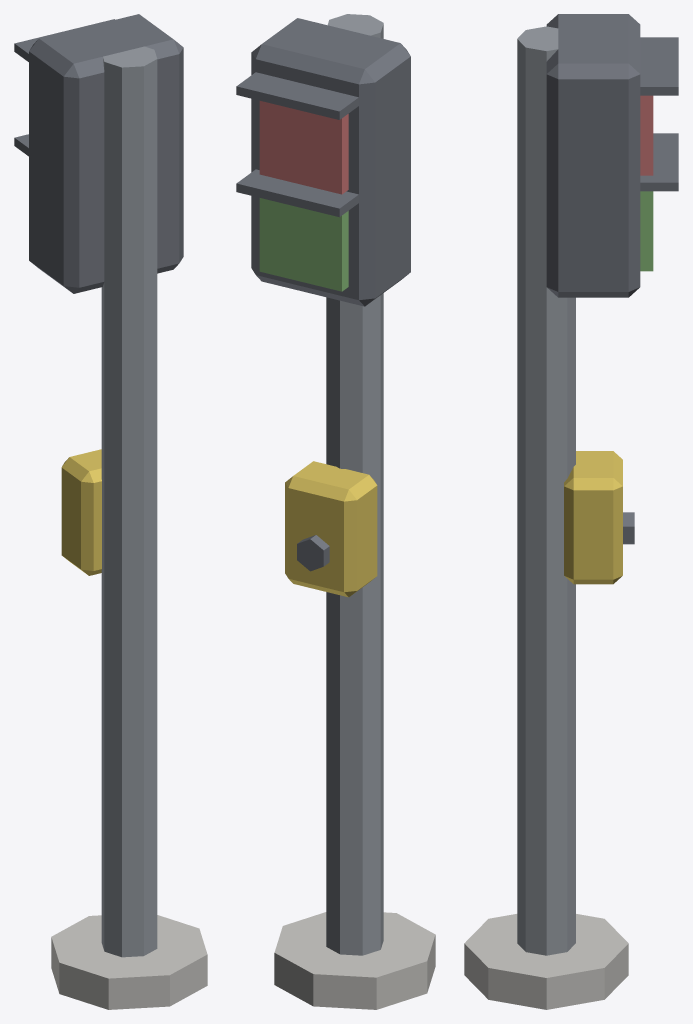
Rendered from mobiliario__semaforo_pedestre.glb.
The picture shows the model from 3 angles, left to right: view 1: azimuth 30°, elevation 25°; view 2: azimuth 150°, elevation 25°; view 3: azimuth 270°, elevation 25°; orthographic projection. The views are drawn at different scales.
Visible parts, largest first — view 1: mobiliario__semaforo_pedestre; view 2: mobiliario__semaforo_pedestre; view 3: mobiliario__semaforo_pedestre.
Part boxes in pixels (x1,y1,x2,y2): mobiliario__semaforo_pedestre: (14, 14, 207, 1009); mobiliario__semaforo_pedestre: (236, 14, 435, 1009); mobiliario__semaforo_pedestre: (464, 14, 678, 1009).
Bounding box in the file's own units: 0.14 × 0.88 × 0.1825.
